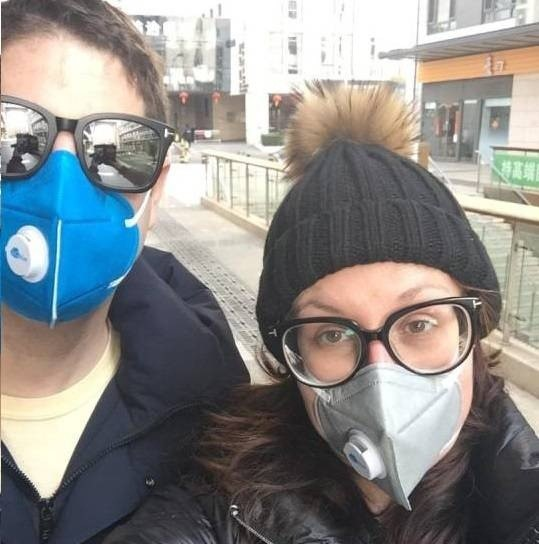face_with_mask: (267, 243, 494, 526), (4, 24, 186, 338)
